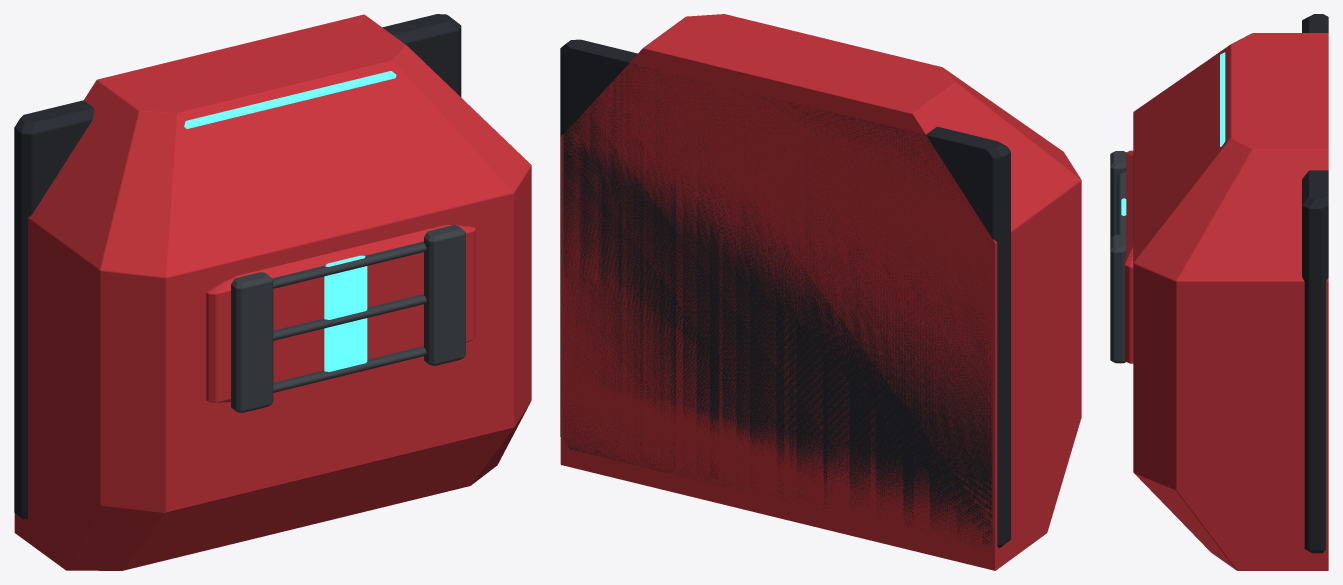
Rendered from FootFront_Set03_Overclock.fbx.
3 renders of one model, left to right at view 1: azimuth 30°, elevation 25°; view 2: azimuth 150°, elevation 25°; view 3: azimuth 270°, elevation 25°, orthographic. The views are drawn at different scales.
Visible parts, largest first — view 1: FootFront_Set03_Overclock; view 2: FootFront_Set03_Overclock; view 3: FootFront_Set03_Overclock.
Boxes of the visible parts, <box> form: FootFront_Set03_Overclock: <box>14,14,531,570</box>; FootFront_Set03_Overclock: <box>560,14,1081,570</box>; FootFront_Set03_Overclock: <box>1110,14,1328,570</box>.
Size of the model in its own units: 0.51 by 0.48 by 0.246.
